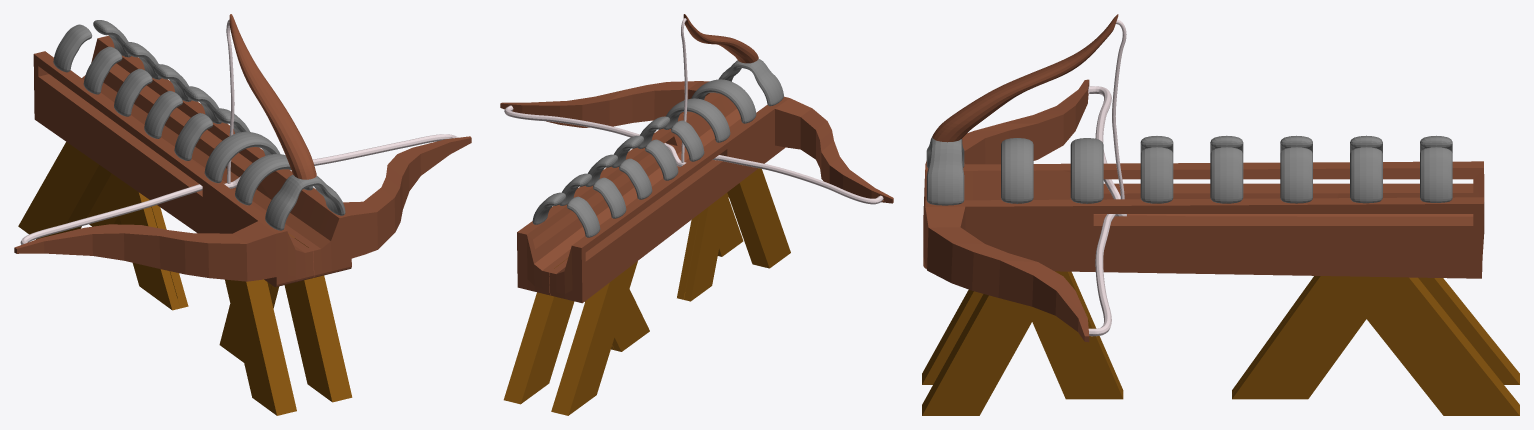
Rendered from ArrowShooter.fbx.
The picture shows the model from 3 angles, left to right: view 1: azimuth 30°, elevation 25°; view 2: azimuth 150°, elevation 25°; view 3: azimuth 270°, elevation 25°; orthographic projection. The views are drawn at different scales.
Visible parts, largest first — view 1: MainCrowssBow, Crossbow top arc, String; view 2: MainCrowssBow, Crossbow top arc, String; view 3: MainCrowssBow, Crossbow top arc, String.
Part boxes in pixels (bbox=[...]): MainCrowssBow: bbox=[14, 35, 471, 415]; Crossbow top arc: bbox=[53, 14, 345, 230]; String: bbox=[20, 19, 457, 244]; MainCrowssBow: bbox=[500, 81, 893, 415]; Crossbow top arc: bbox=[532, 14, 783, 237]; String: bbox=[504, 18, 883, 204]; MainCrowssBow: bbox=[922, 79, 1519, 415]; Crossbow top arc: bbox=[926, 14, 1452, 205]; String: bbox=[1088, 20, 1126, 336].
Size of the model in its own units: 389 by 269 by 383.
